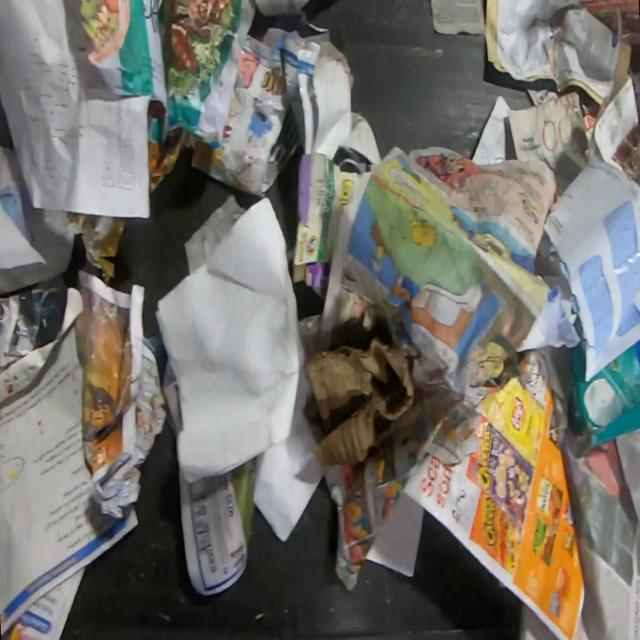cardboard: (304, 332, 417, 470), (565, 337, 640, 449)
